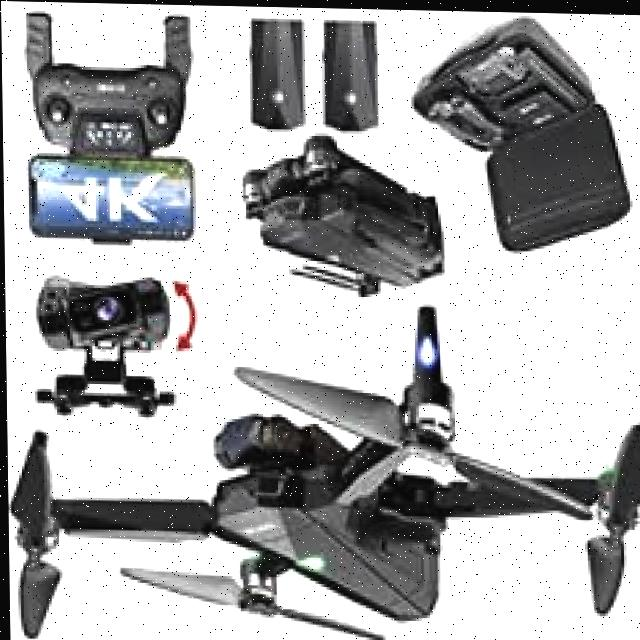drone: (3, 284, 640, 640)
